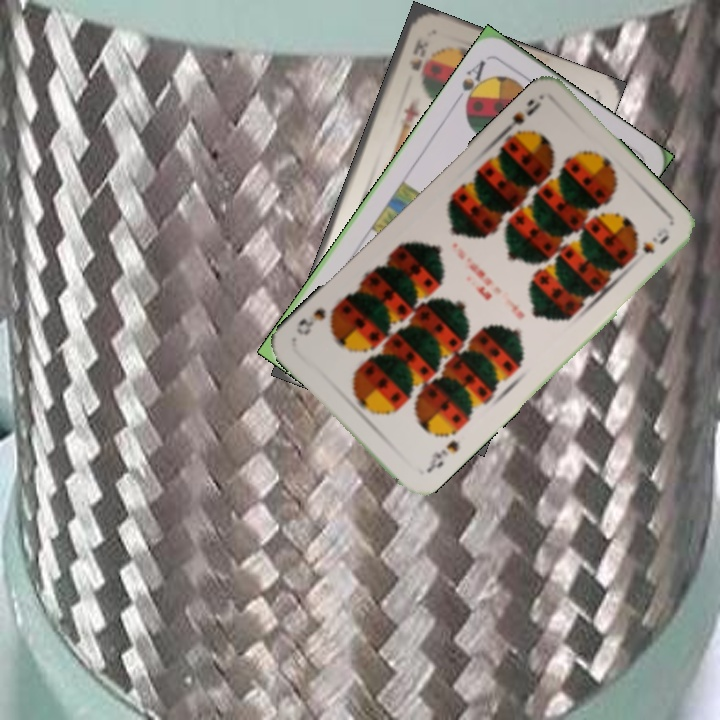S9: (497, 92, 544, 142), (422, 436, 462, 476)
SA: (457, 56, 492, 112)
SK: (406, 34, 426, 74)
